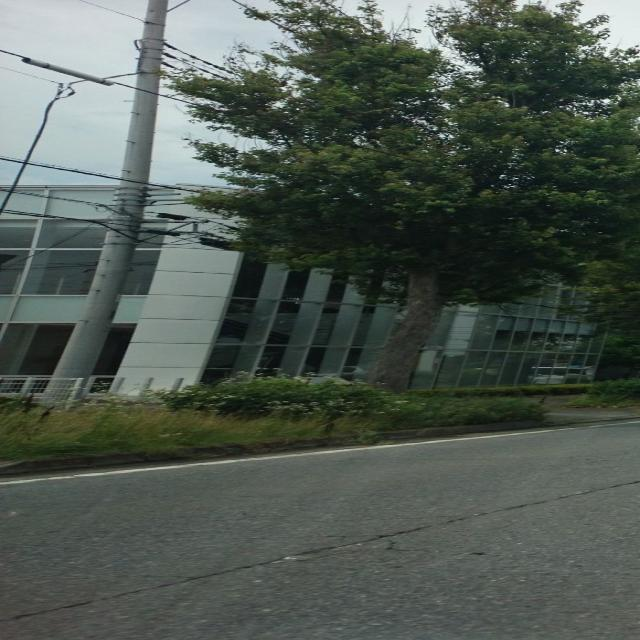maple: (147, 0, 640, 392)
